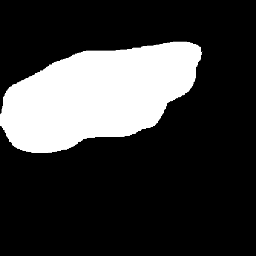mass: (10, 43, 199, 138)
